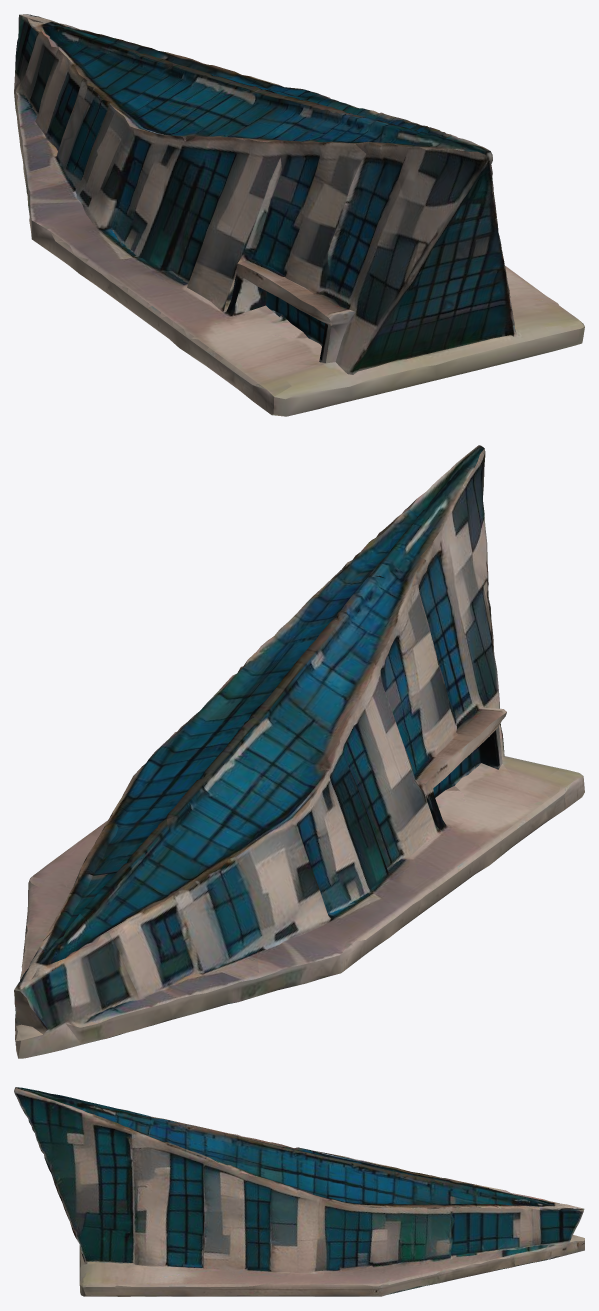
The model's file is lanyang-museum.glb.
3 views of the same model, one above another, from view 1: azimuth 30°, elevation 25°; view 2: azimuth 150°, elevation 25°; view 3: azimuth 270°, elevation 25° (orthographic). The views are drawn at different scales.
Visible parts, largest first — view 1: logan-textured.obj; view 2: logan-textured.obj; view 3: logan-textured.obj.
Part boxes in pixels (x1,y1,x2,y2): logan-textured.obj: (14,14,584,416); logan-textured.obj: (14,445,584,1058); logan-textured.obj: (14,1087,584,1296).
Bounding box in the file's own units: 0.3871 × 0.3187 × 1.
Materials: 1 (1 with a texture image).
